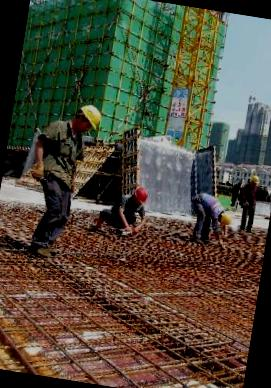helmet: (71, 101, 104, 136)
no_vest: (33, 122, 80, 189)
person: (15, 96, 106, 264)
